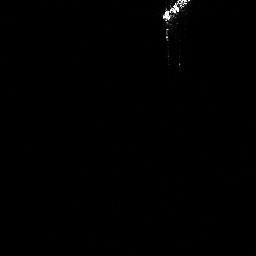ship: (159, 1, 192, 25)
